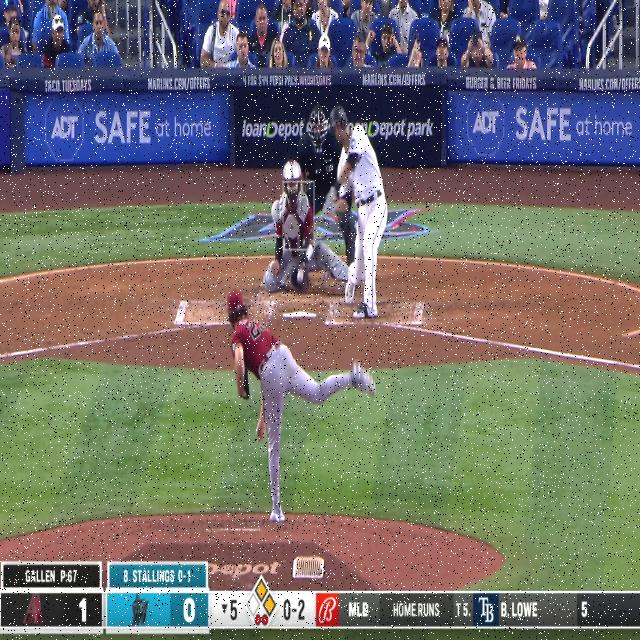baseball: (295, 267, 305, 285)
